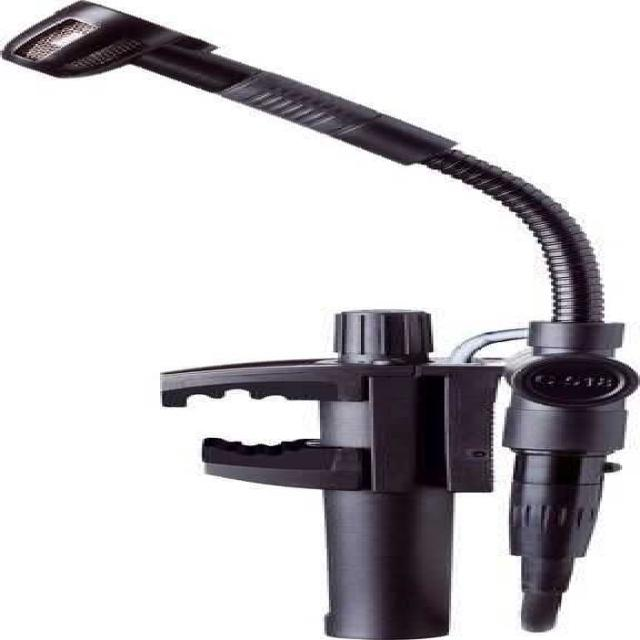microphone: (3, 3, 451, 160)
